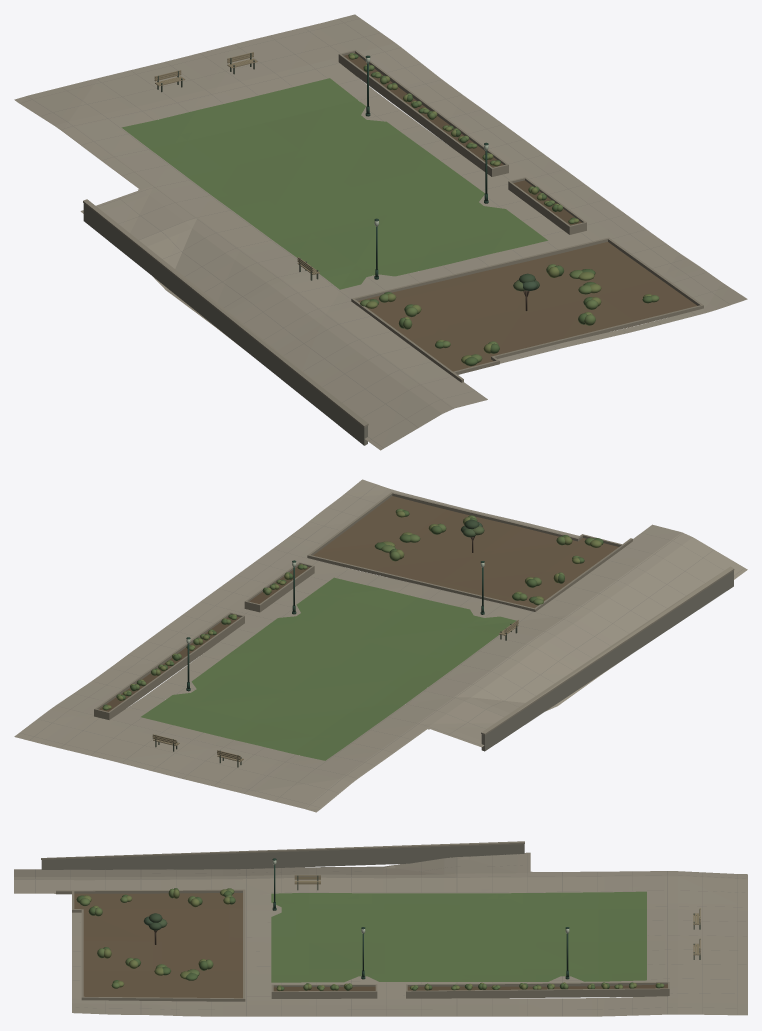
Rendered from site.glb.
3 views of the same model, one above another, from view 1: azimuth 30°, elevation 25°; view 2: azimuth 150°, elevation 25°; view 3: azimuth 270°, elevation 25° (orthographic). The views are drawn at different scales.
Parts seen in each view (by area): view 1: hedco-landscape-courtyard-paving, hedco-landscape-courtyard-fixtures, hedco-landscape-courtyard-planting; view 2: hedco-landscape-courtyard-paving, hedco-landscape-courtyard-fixtures, hedco-landscape-courtyard-planting; view 3: hedco-landscape-courtyard-paving, hedco-landscape-courtyard-fixtures, hedco-landscape-courtyard-planting.
Boxes of the visible parts, box(x1,y1,x2,y2) form: hedco-landscape-courtyard-paving: box(14, 14, 747, 450); hedco-landscape-courtyard-fixtures: box(21, 18, 730, 447); hedco-landscape-courtyard-planting: box(348, 53, 659, 366); hedco-landscape-courtyard-paving: box(14, 479, 747, 812); hedco-landscape-courtyard-fixtures: box(20, 485, 744, 808); hedco-landscape-courtyard-planting: box(102, 508, 603, 710); hedco-landscape-courtyard-paving: box(14, 852, 747, 1016); hedco-landscape-courtyard-fixtures: box(15, 841, 746, 1016); hedco-landscape-courtyard-planting: box(76, 888, 664, 991).
Size of the model in its own units: 26.93 by 5.86 by 49.54.
